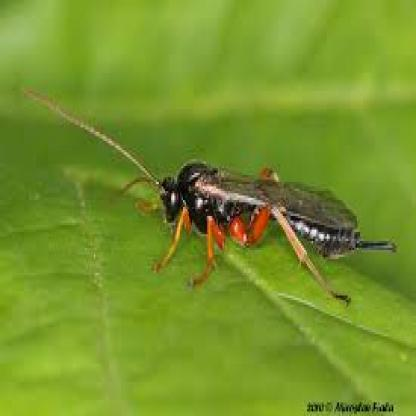sawfly: (62, 100, 402, 322)
